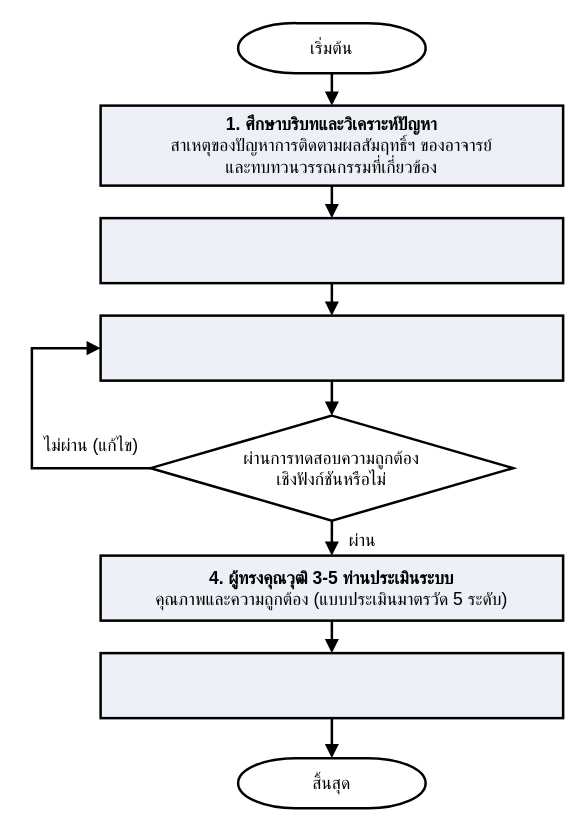
The diagram is 585 pixels wide and 830 high, and some of its shapes have lost their labels. The shapes that lost their labels are listed below. From the top down, each one's centre as x and y in pixels, then its label:
At (331,250): "2. วิเคราะห์และออกแบบระบบ สถาปัตยกรรม ฐานข้อมูล และ UI/UX".
At (331,347): "3. พัฒนาระบบ การคำนวณ CLOs และแดชบอร์ดนักศึกษาเสี่ยง".
At (331,685): "5. อาจารย์ผู้สอนทดลองใช้งานจริง ประเมินความพึงพอใจและประสิทธิภาพของระบบ".
